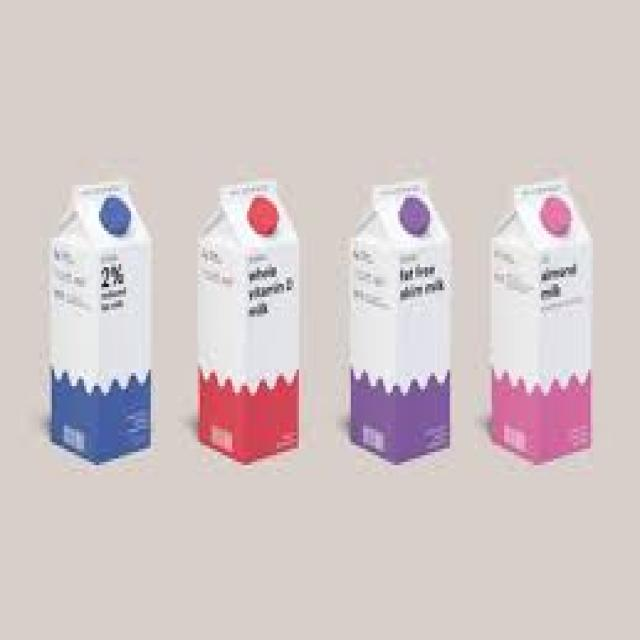non_white_jug: (483, 167, 597, 493), (339, 165, 457, 478), (40, 152, 153, 478), (198, 163, 309, 487)
